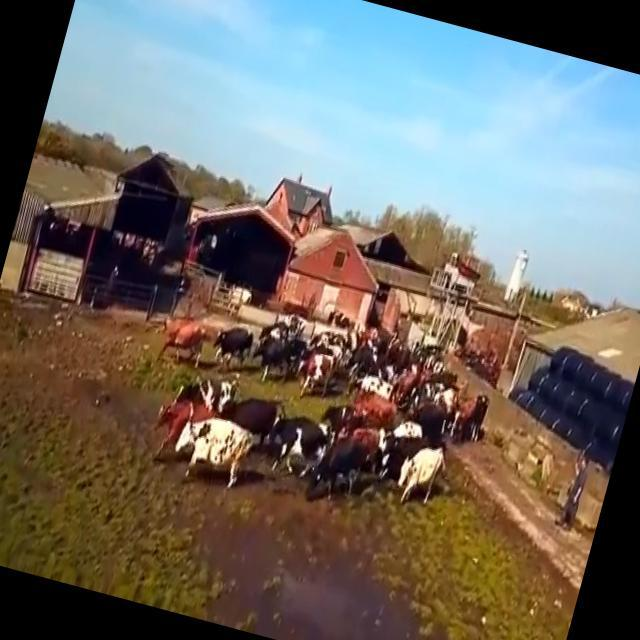COW: (188, 203, 295, 302), (162, 412, 257, 496), (267, 402, 337, 478), (386, 440, 456, 512), (304, 439, 374, 509), (218, 382, 286, 449), (150, 302, 212, 368), (162, 366, 238, 417), (148, 394, 212, 454), (350, 386, 398, 434), (292, 343, 336, 394), (206, 322, 254, 368), (256, 334, 304, 378), (464, 388, 492, 442), (354, 335, 383, 367), (187, 433, 192, 441)
